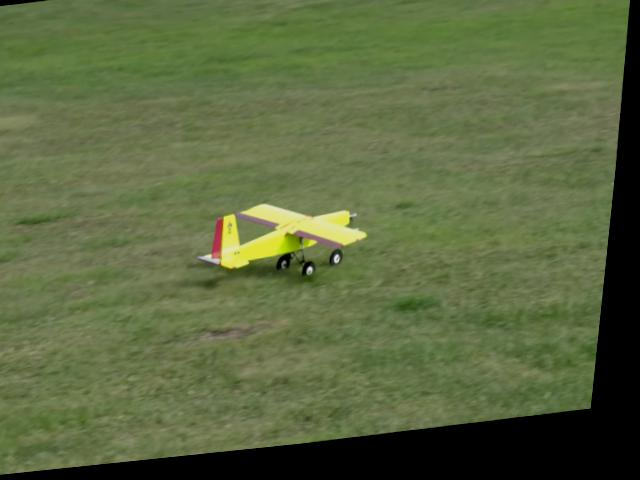plane: (199, 198, 377, 294)
